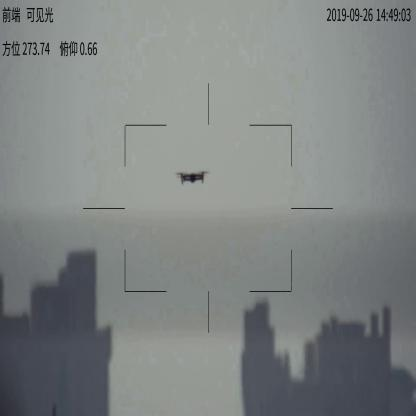uav: (177, 169, 207, 188)
